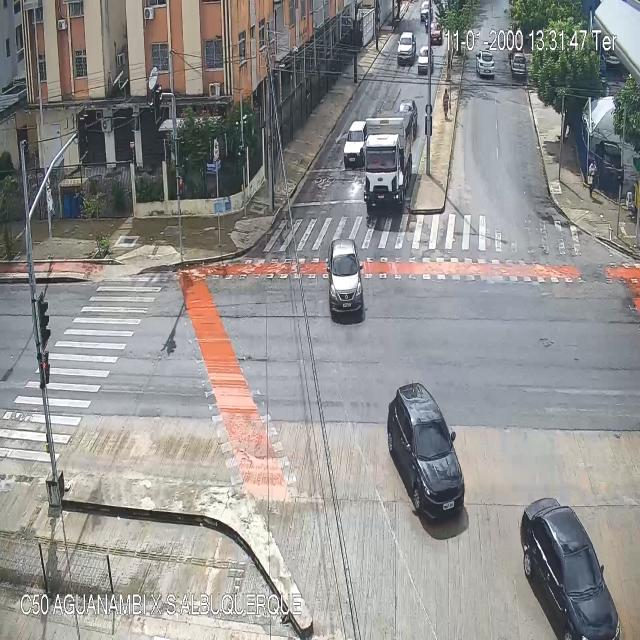Car: (518, 498, 622, 640), (388, 382, 464, 520), (327, 238, 367, 320), (344, 120, 368, 163), (401, 98, 418, 142), (476, 49, 495, 80), (398, 31, 415, 64), (418, 46, 434, 73), (431, 18, 442, 44), (512, 53, 524, 76), (419, 1, 430, 24)
Truck: (366, 116, 412, 209)
